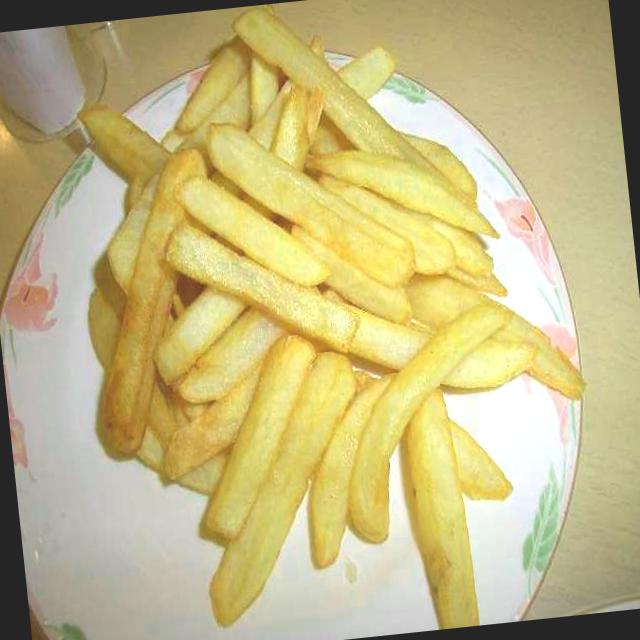French Fries: (96, 32, 547, 583)
